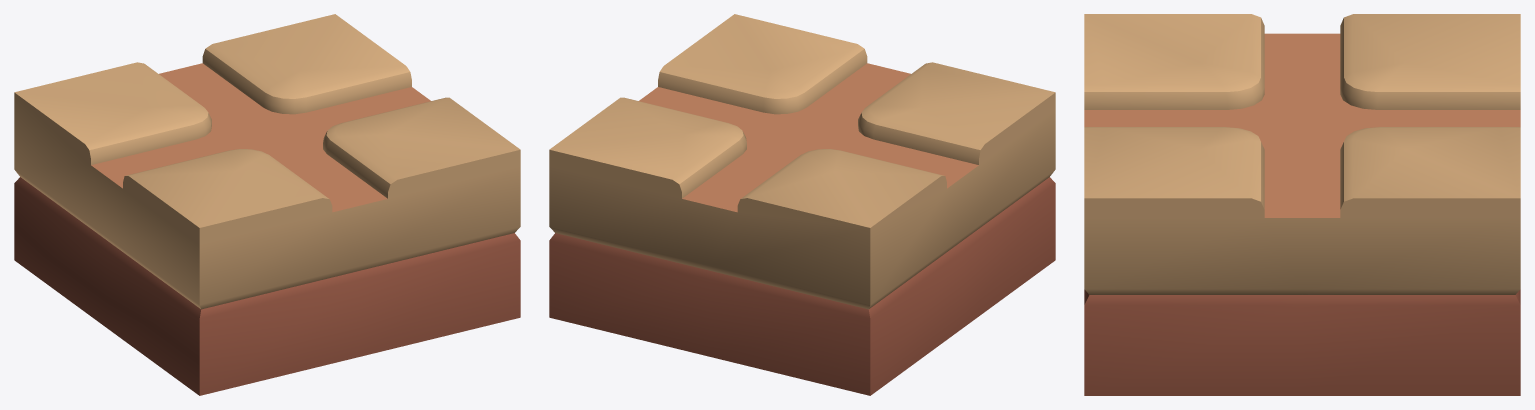
Rendered from kaykit-square-sand-roade-detail.glb.
3 renders of one model, left to right at view 1: azimuth 30°, elevation 25°; view 2: azimuth 150°, elevation 25°; view 3: azimuth 270°, elevation 25°, orthographic. The views are drawn at different scales.
Visible parts, largest first — view 1: square_sand_roadE_detail; view 2: square_sand_roadE_detail; view 3: square_sand_roadE_detail.
Boxes of the visible parts, x1,y1,x2,y2 form: square_sand_roadE_detail: (14,14,520,395); square_sand_roadE_detail: (549,14,1055,395); square_sand_roadE_detail: (1084,14,1520,395).
Size of the model in its own units: 2 by 0.9998 by 2.
